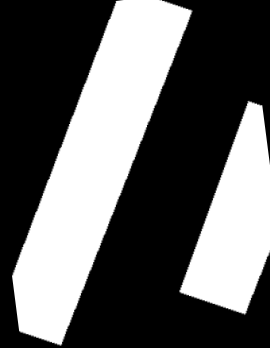parkingspot: (12, 0, 192, 346), (179, 101, 270, 315)
